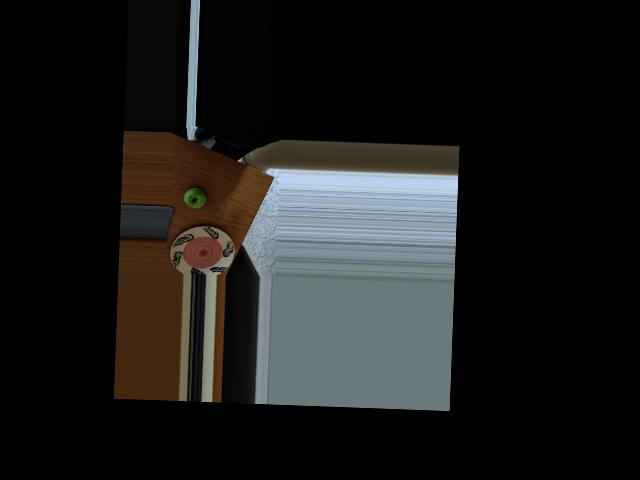apple: (183, 182, 210, 209)
